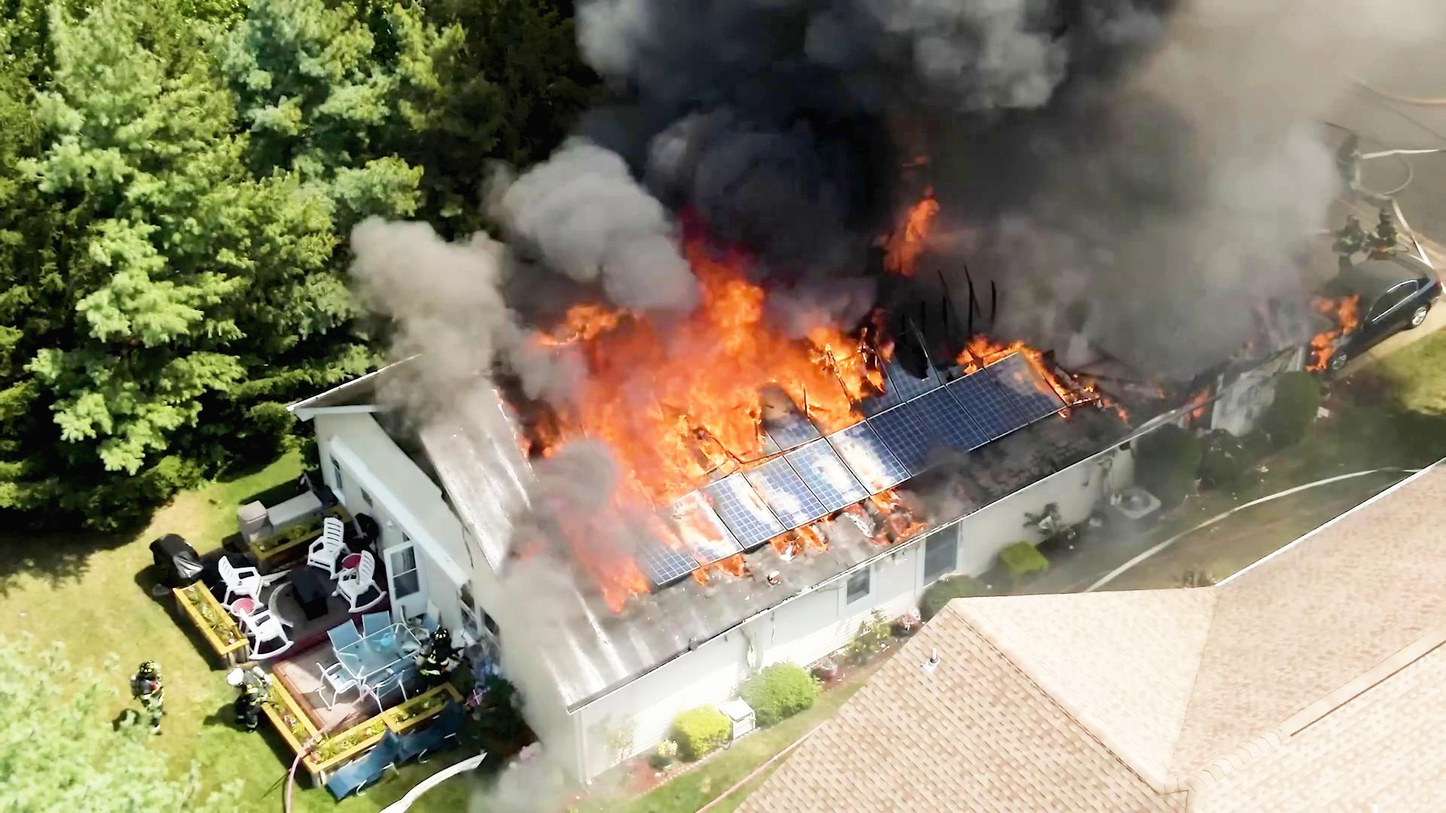fire: (572, 294, 833, 466)
smoke: (1032, 64, 1275, 326)
